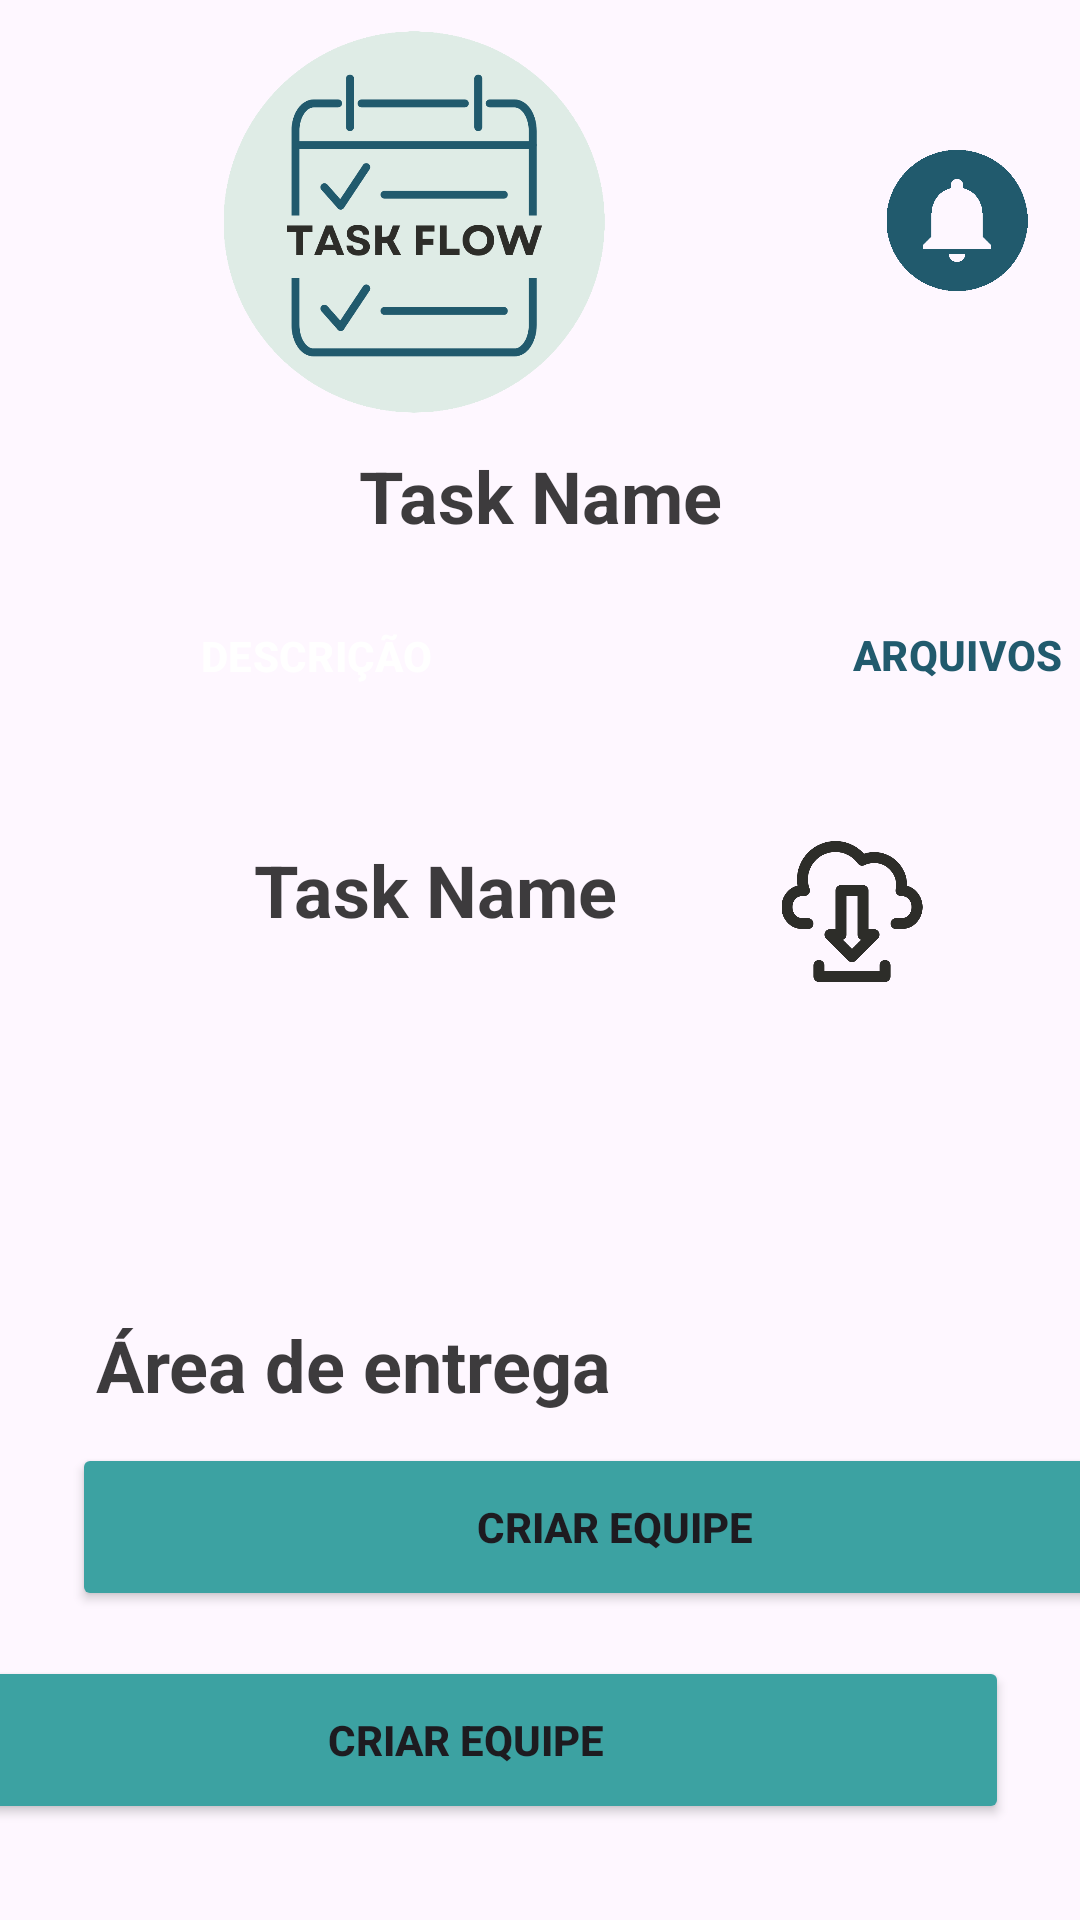

Icon click points for this 1080px×1920px phone screenshot, format (x=x, y=y):
download: (x=852, y=911)
notificationbllue: (x=957, y=220)
